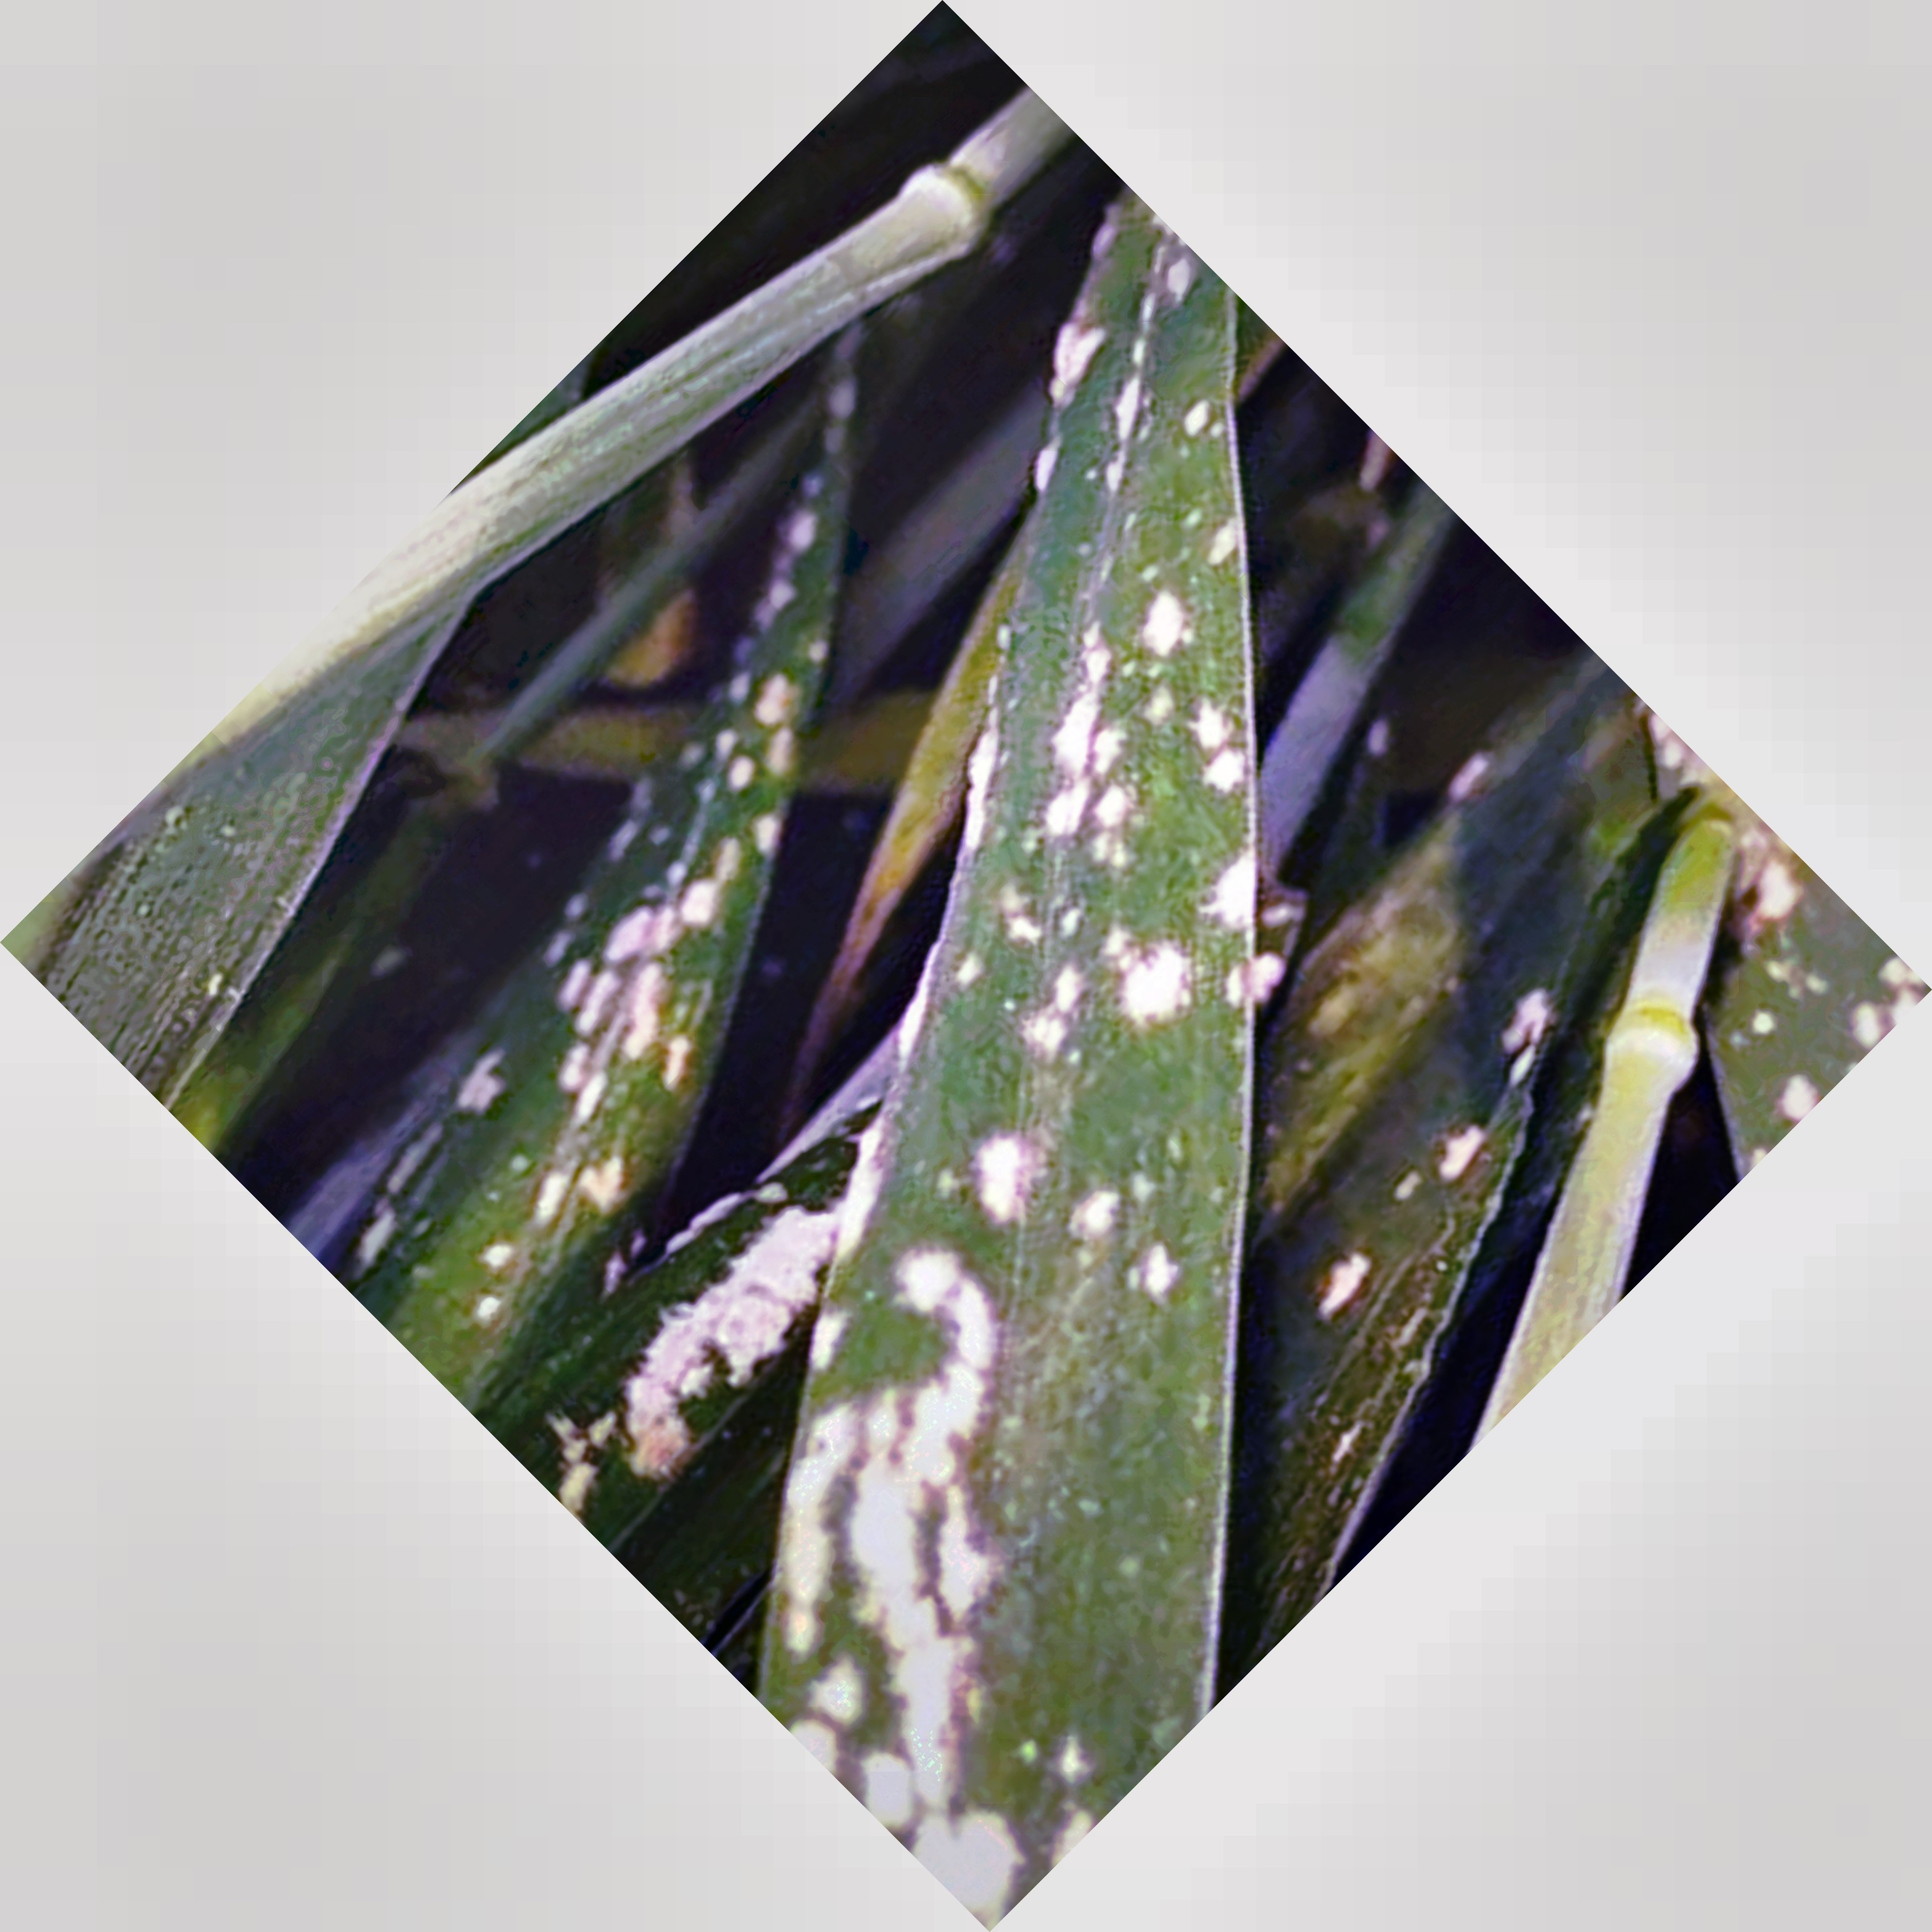Powdery Mildew: (497, 609, 1306, 1783)
